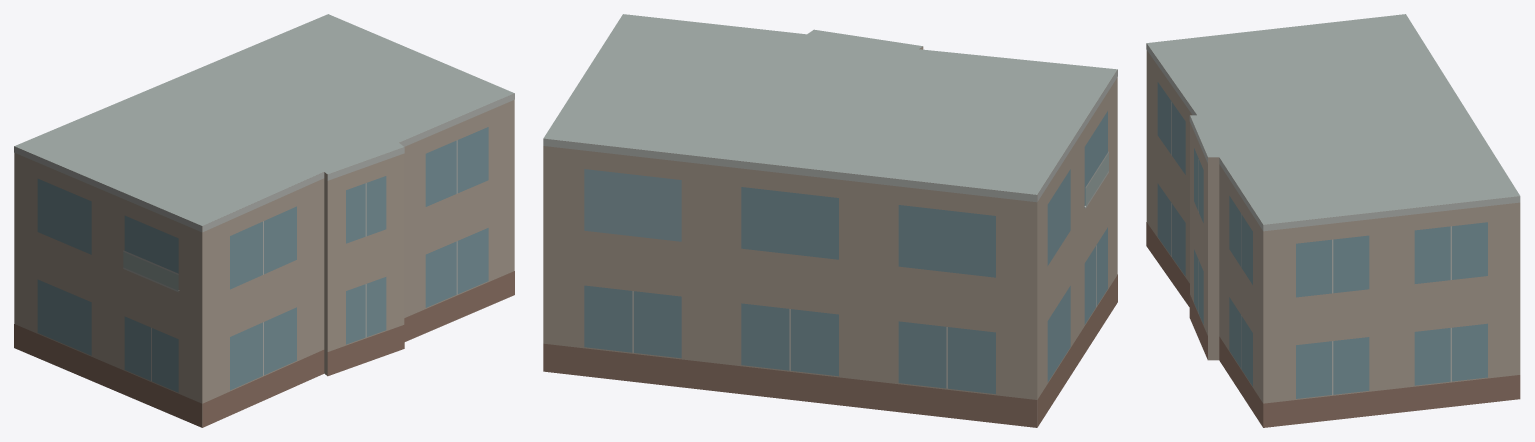
The model's file is survey-upis-32624078.glb.
3 renders of one model, left to right at view 1: azimuth 30°, elevation 25°; view 2: azimuth 150°, elevation 25°; view 3: azimuth 270°, elevation 25°, orthographic. The views are drawn at different scales.
Visible parts, largest first — view 1: survey-upis-32624078.tmp; view 2: survey-upis-32624078.tmp; view 3: survey-upis-32624078.tmp.
Part boxes in pixels (x1=…): survey-upis-32624078.tmp: x1=14, y1=14, x2=514, y2=427; survey-upis-32624078.tmp: x1=543, y1=14, x2=1117, y2=427; survey-upis-32624078.tmp: x1=1146, y1=14, x2=1520, y2=427.
Bounding box in the file's own units: 17.17 × 7.7 × 12.87.
